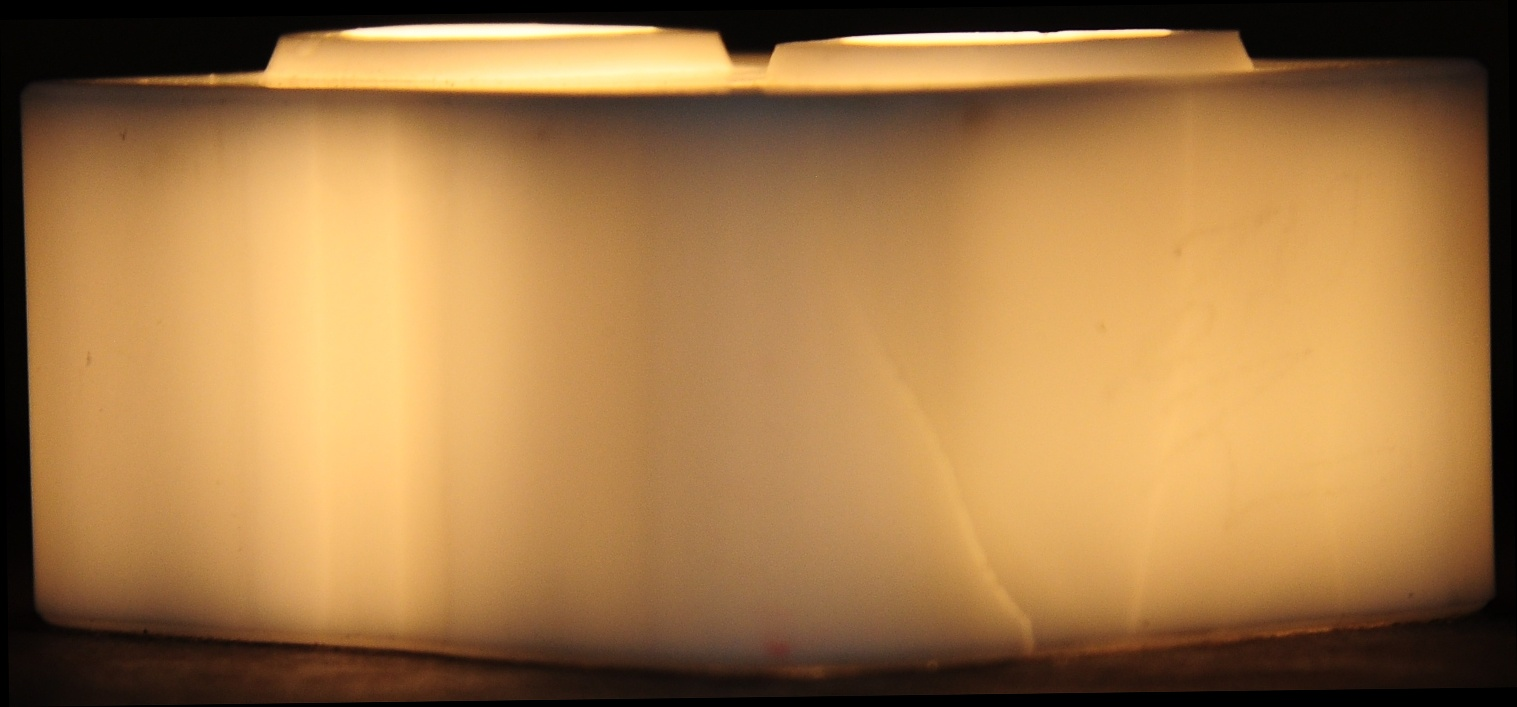flaw: (1124, 80, 1179, 636), (865, 300, 975, 513), (959, 513, 1056, 663)
